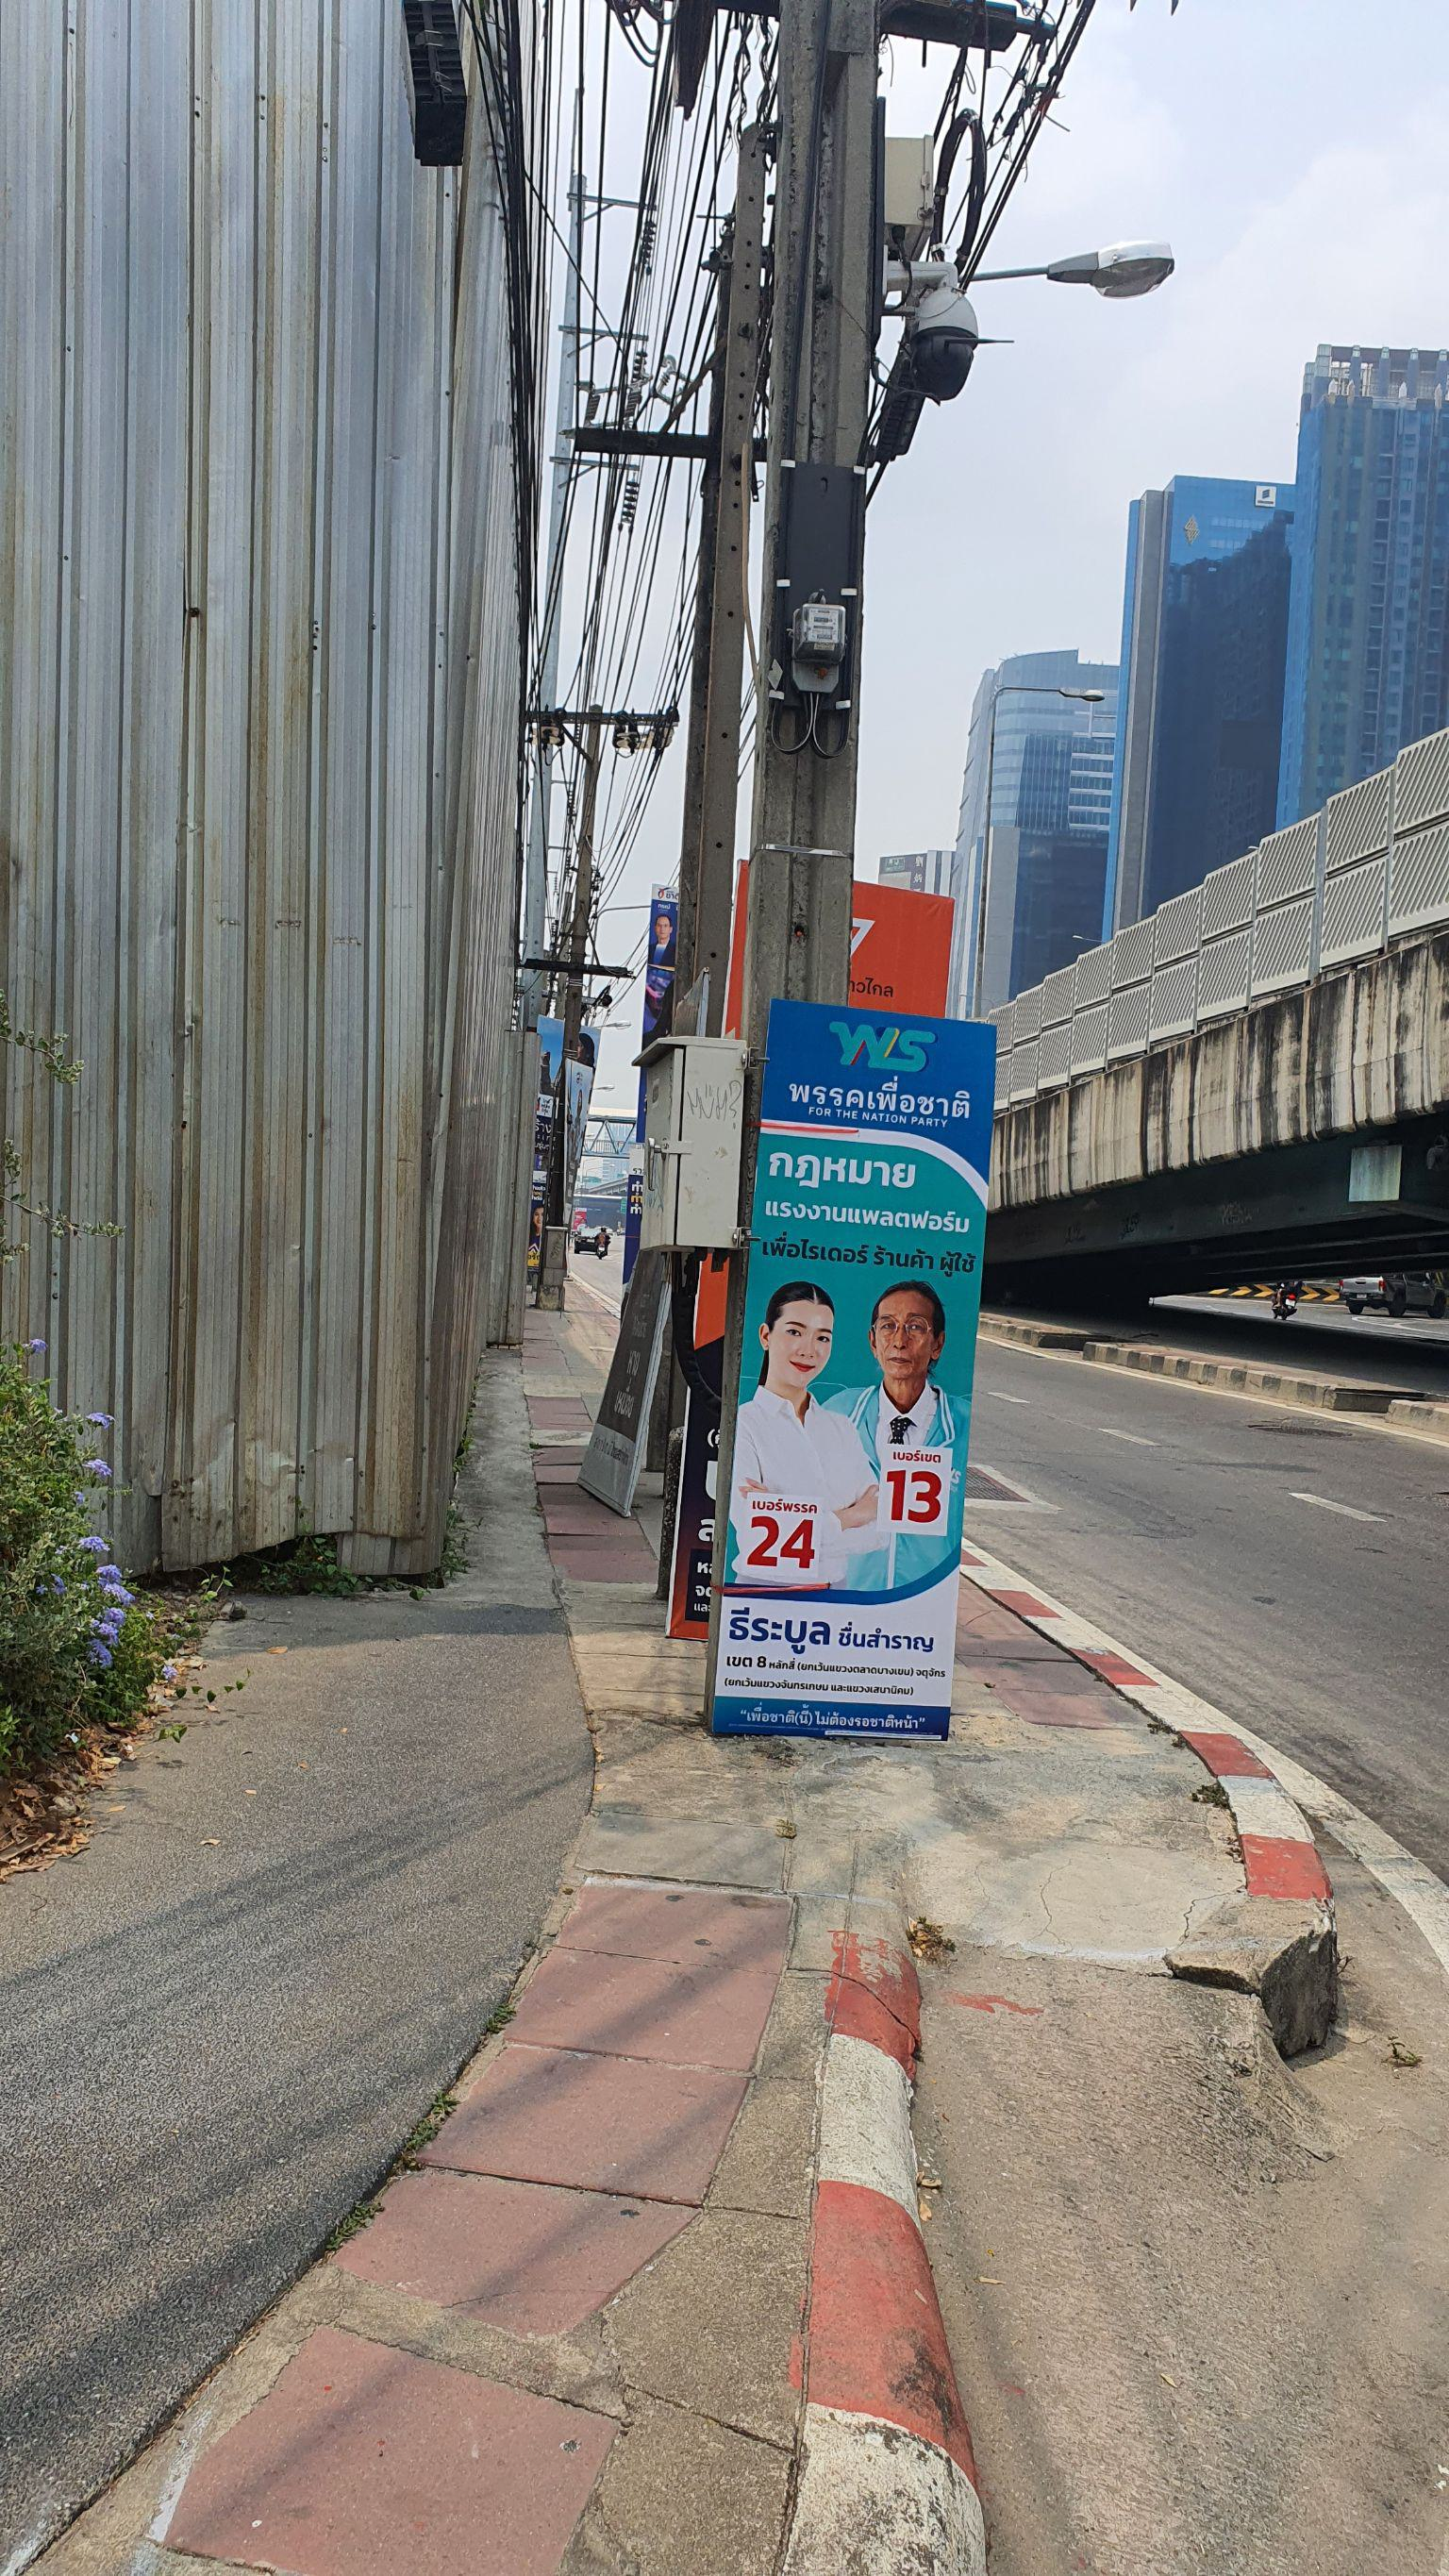Banner: (692, 1008, 1003, 1737)
